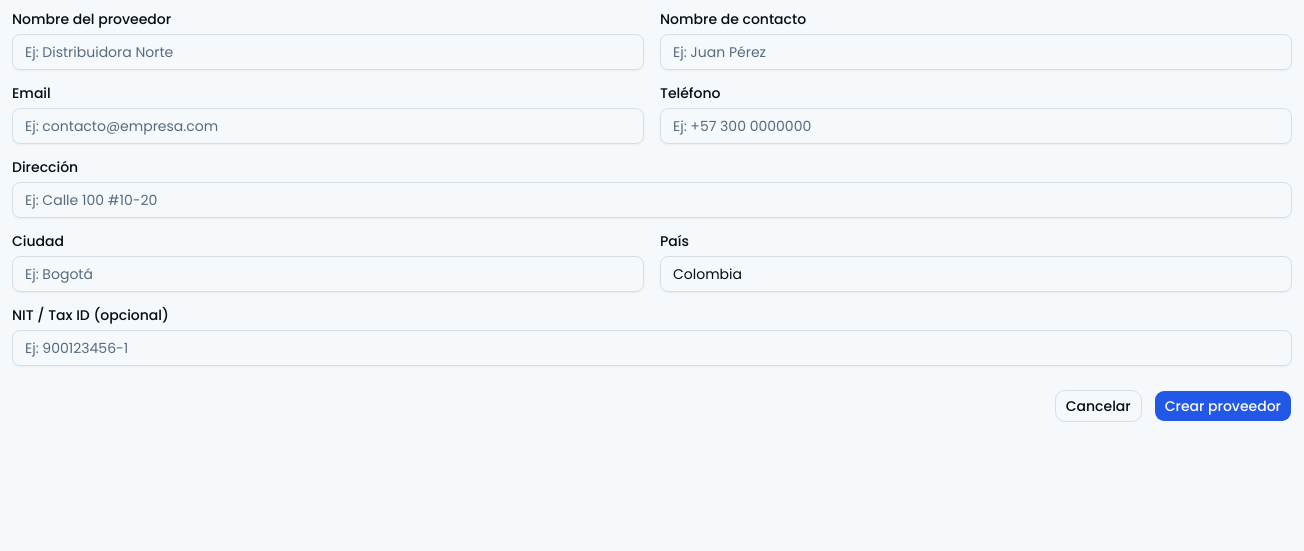
SupplierForm — validación › muestra errores para campos requeridos al enviar vacío
This screenshot has width=1304, height=551.
// Limpiar el default "Colombia" del campo país
Clear the field labelled "País" at (976, 274), box [660,256,1292,292]
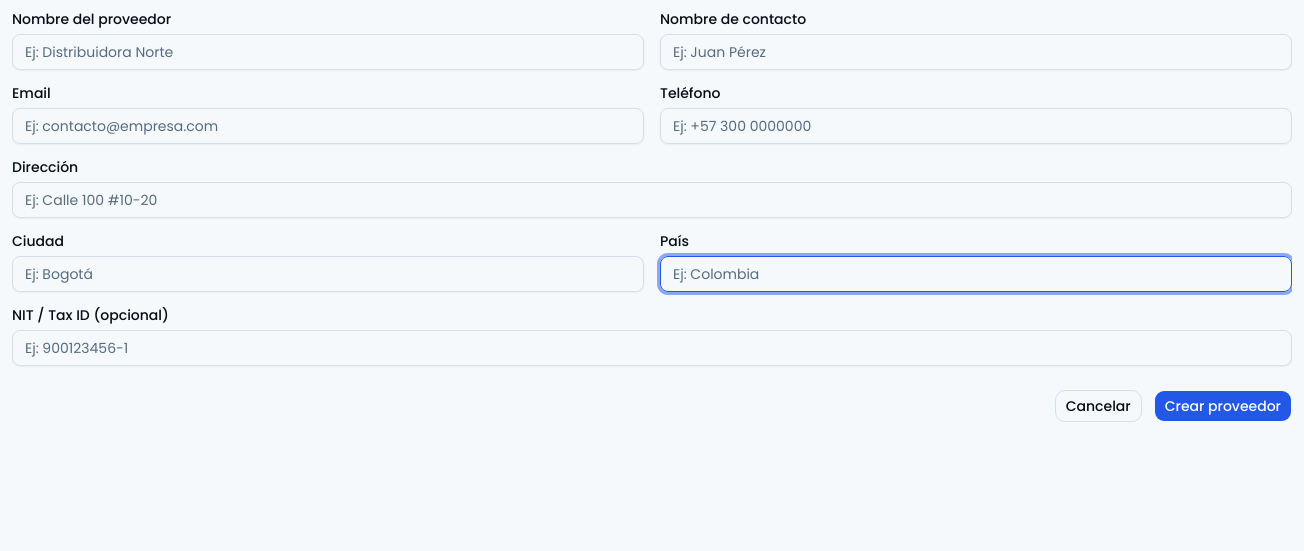
Click the button "Crear proveedor" at (1223, 406), box [1154,390,1292,422]
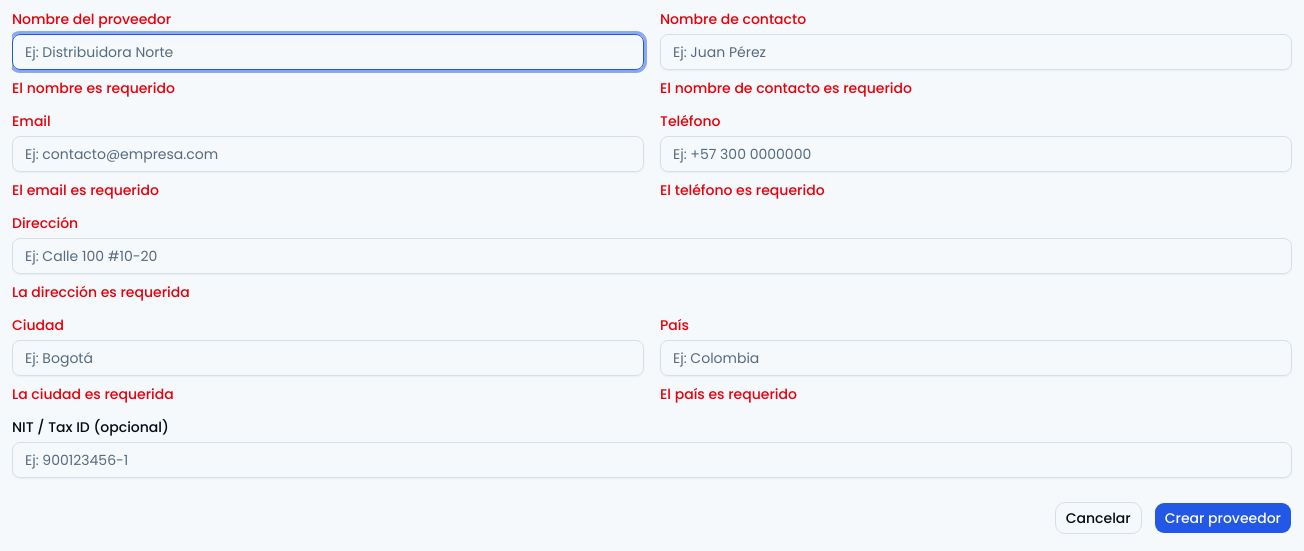
Expected: the text "El nombre es requerido" is shown, [12,78,175,98]
Expected: the text "El nombre de contacto es requerido" is shown, [660,78,912,98]
Expected: the text "El teléfono es requerido" is shown, [660,180,825,200]
